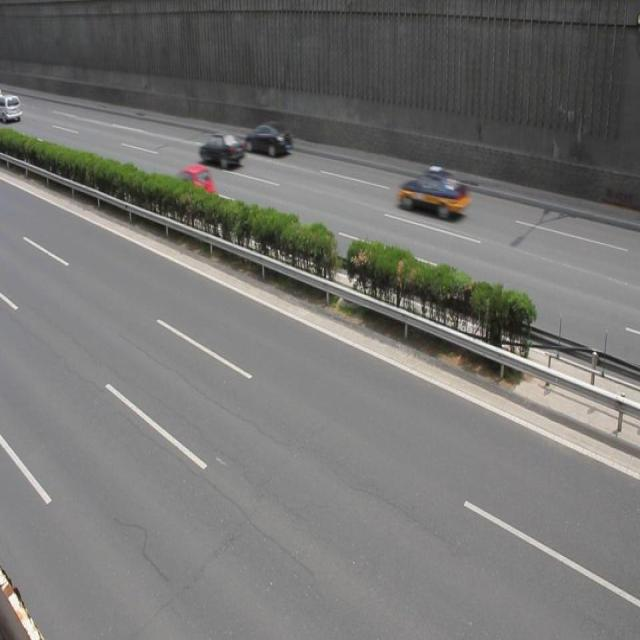car: (396, 166, 469, 218), (172, 160, 216, 207), (243, 120, 292, 157), (197, 132, 245, 169)
